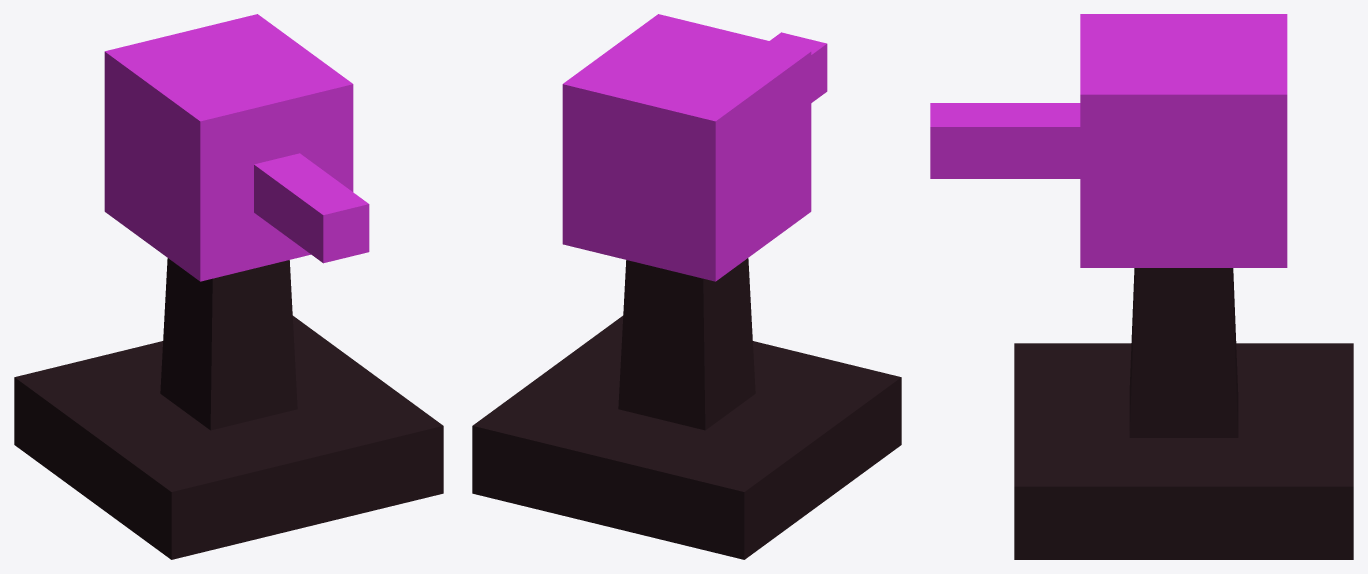
Rendered from basicTower.fbx.
3 renders of one model, left to right at view 1: azimuth 30°, elevation 25°; view 2: azimuth 150°, elevation 25°; view 3: azimuth 270°, elevation 25°, orthographic. The views are drawn at different scales.
Visible parts, largest first — view 1: base, head; view 2: base, head; view 3: base, head.
Boxes of the visible parts, bbox=[...] form: base: bbox=[14, 258, 443, 559]; head: bbox=[104, 14, 369, 281]; base: bbox=[472, 258, 901, 559]; head: bbox=[562, 14, 827, 281]; base: bbox=[1014, 268, 1353, 559]; head: bbox=[930, 14, 1287, 267].
Bounding box in the file's own units: 200 × 282 × 249.
